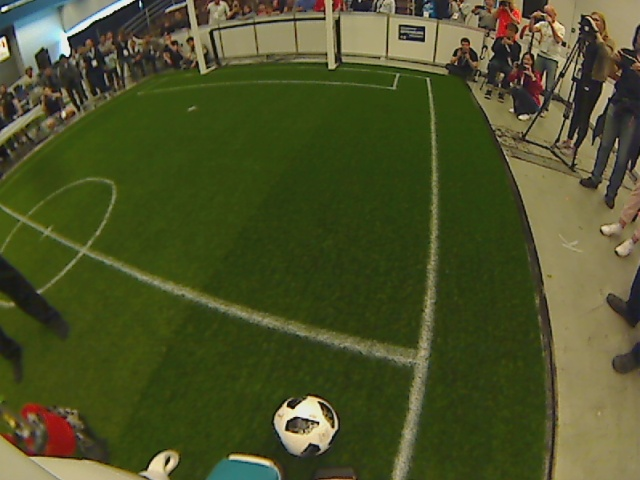ball: (272, 391, 339, 461)
